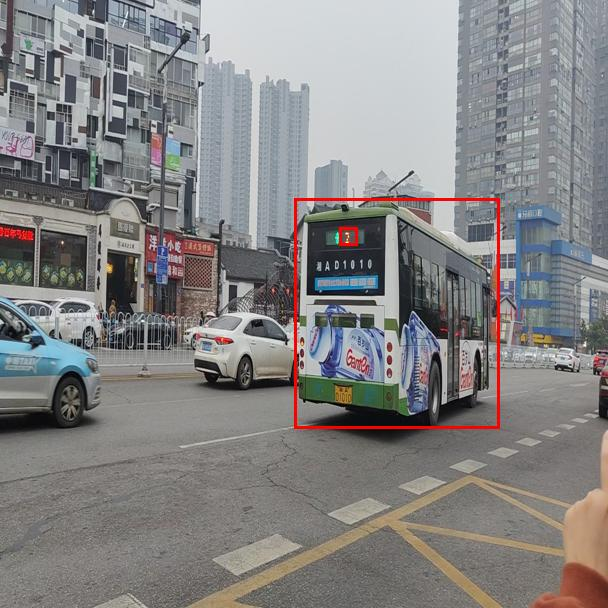bus: (294, 198, 499, 428)
screen: (339, 227, 357, 245)
